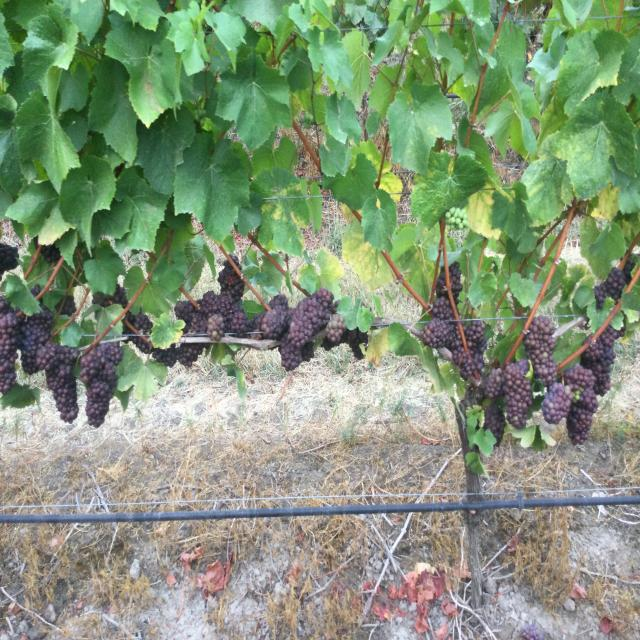grapes: (421, 262, 486, 380), (175, 257, 251, 342), (280, 288, 346, 372), (80, 342, 124, 428), (580, 325, 624, 397), (564, 363, 598, 445), (45, 345, 79, 423), (19, 305, 54, 375), (524, 317, 556, 387), (502, 360, 531, 428), (0, 297, 20, 393), (252, 293, 290, 340), (541, 382, 574, 425), (594, 268, 626, 310), (122, 312, 152, 353), (484, 402, 505, 447), (176, 343, 204, 367), (152, 343, 178, 368), (484, 368, 502, 400)
